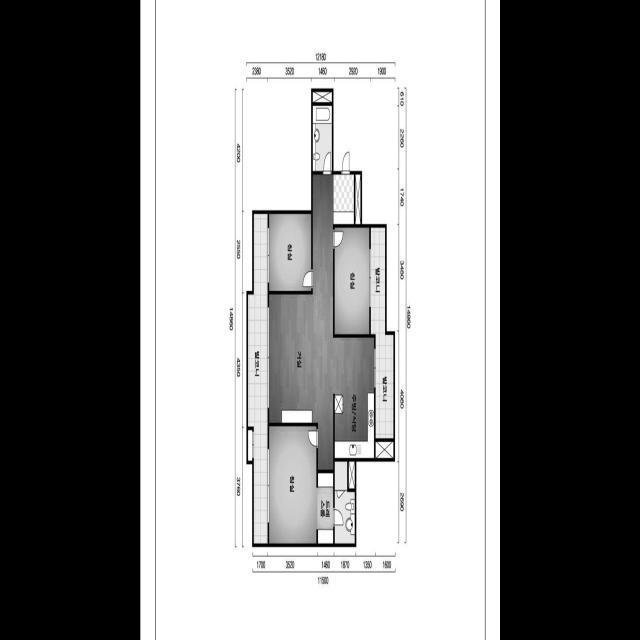background: (140, 0, 500, 640)
space_balconi: (248, 214, 267, 544), (371, 227, 393, 438)
space_bedroom: (269, 426, 316, 544), (334, 227, 369, 334), (269, 214, 311, 291)
space_dressroom: (318, 473, 333, 544)
space_front: (333, 174, 354, 224)
space_kitchen: (334, 338, 374, 458)
space_living_room: (269, 174, 333, 469)
space_other: (375, 442, 393, 458), (355, 174, 360, 224), (312, 92, 332, 103), (348, 462, 354, 489), (248, 430, 252, 461)
space_toilet: (334, 462, 354, 544), (312, 106, 332, 171)
